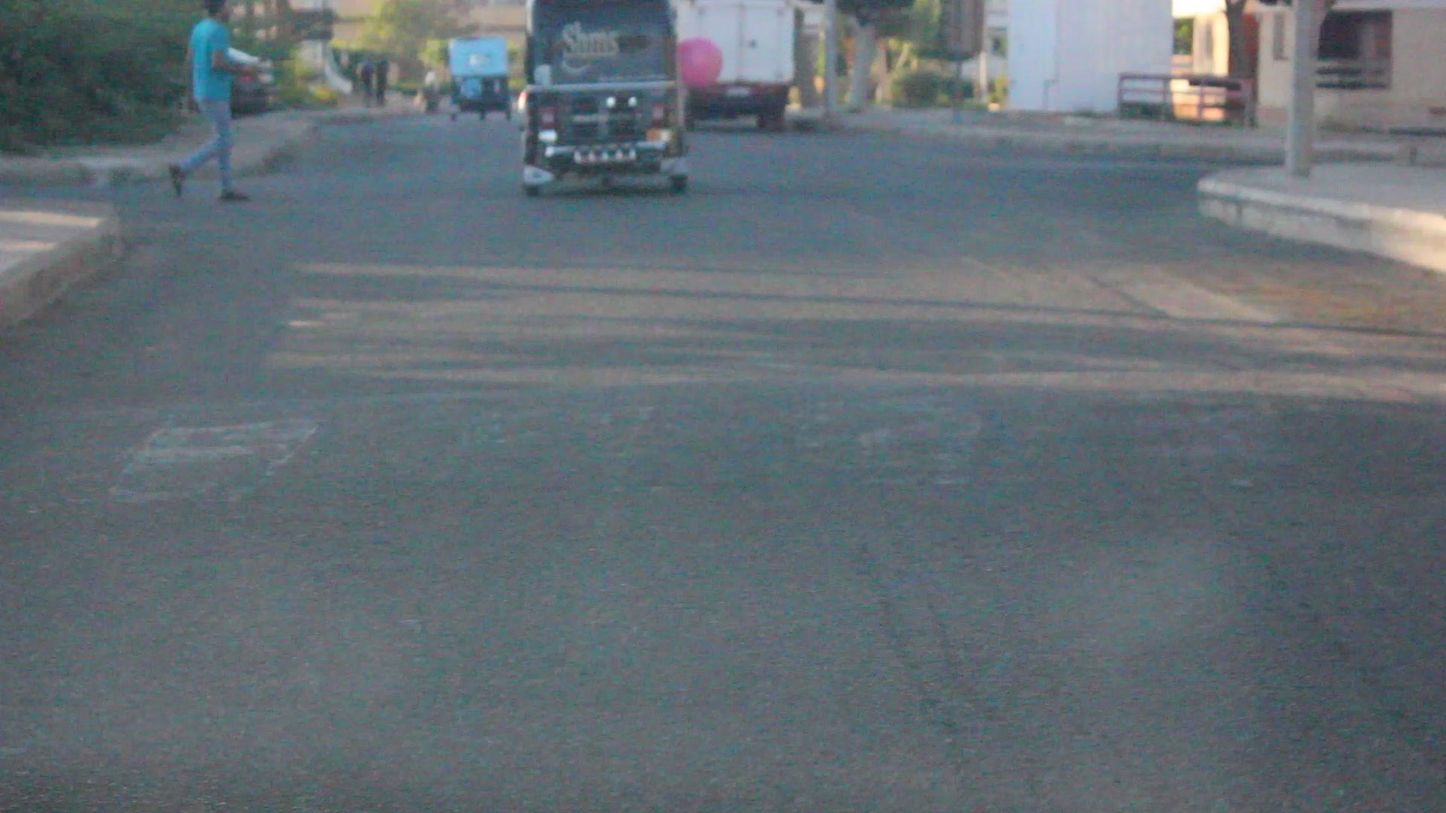Bump: (100, 388, 1446, 550)
